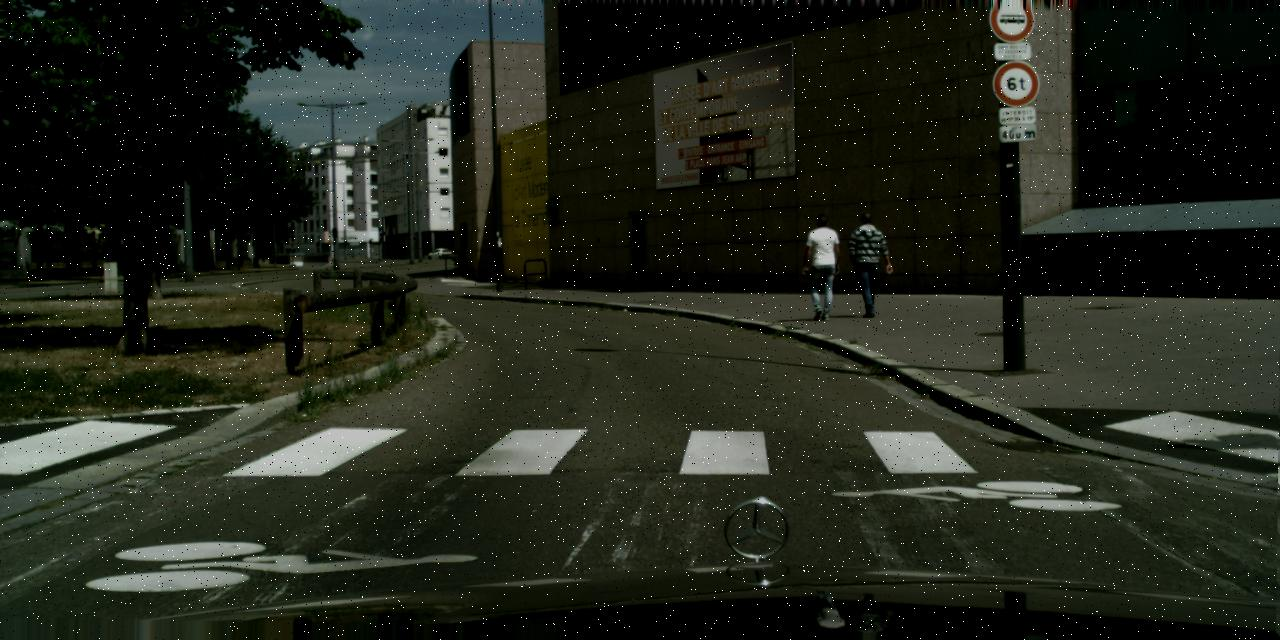ped: (800, 213, 844, 320), (848, 212, 890, 317)
